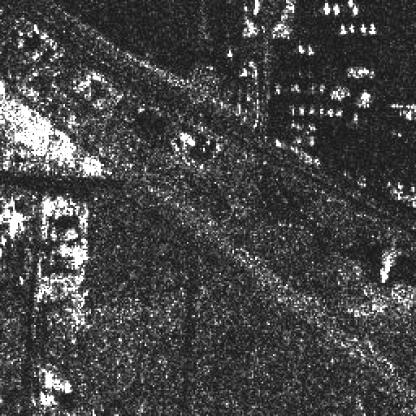airplane: (369, 13, 375, 34), (322, 0, 330, 13), (338, 24, 348, 34), (359, 22, 366, 32), (351, 6, 359, 14), (348, 25, 354, 32), (346, 0, 354, 5)
